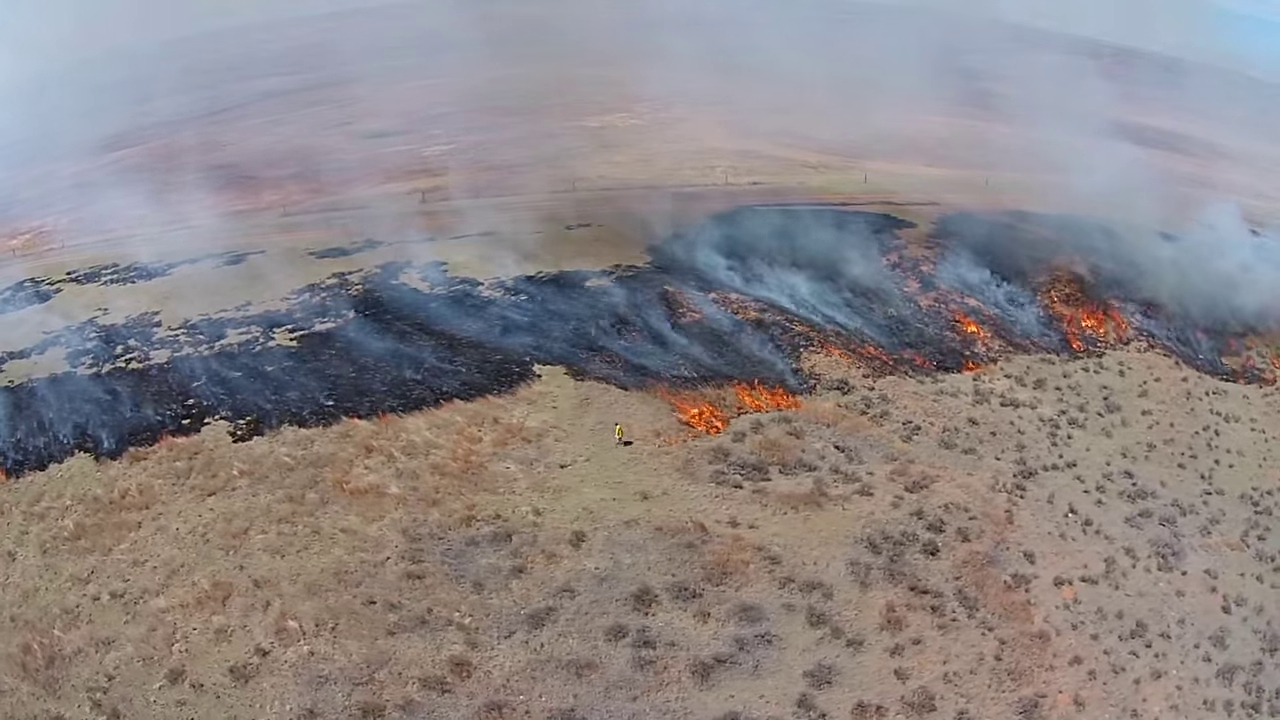forest_fire: (668, 381, 800, 434), (1059, 308, 1127, 352), (955, 312, 993, 338), (961, 358, 982, 372)
